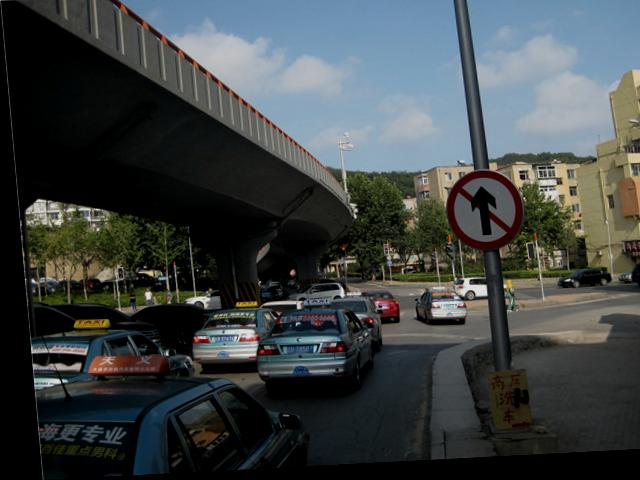not_go_straight: (438, 171, 522, 252)
